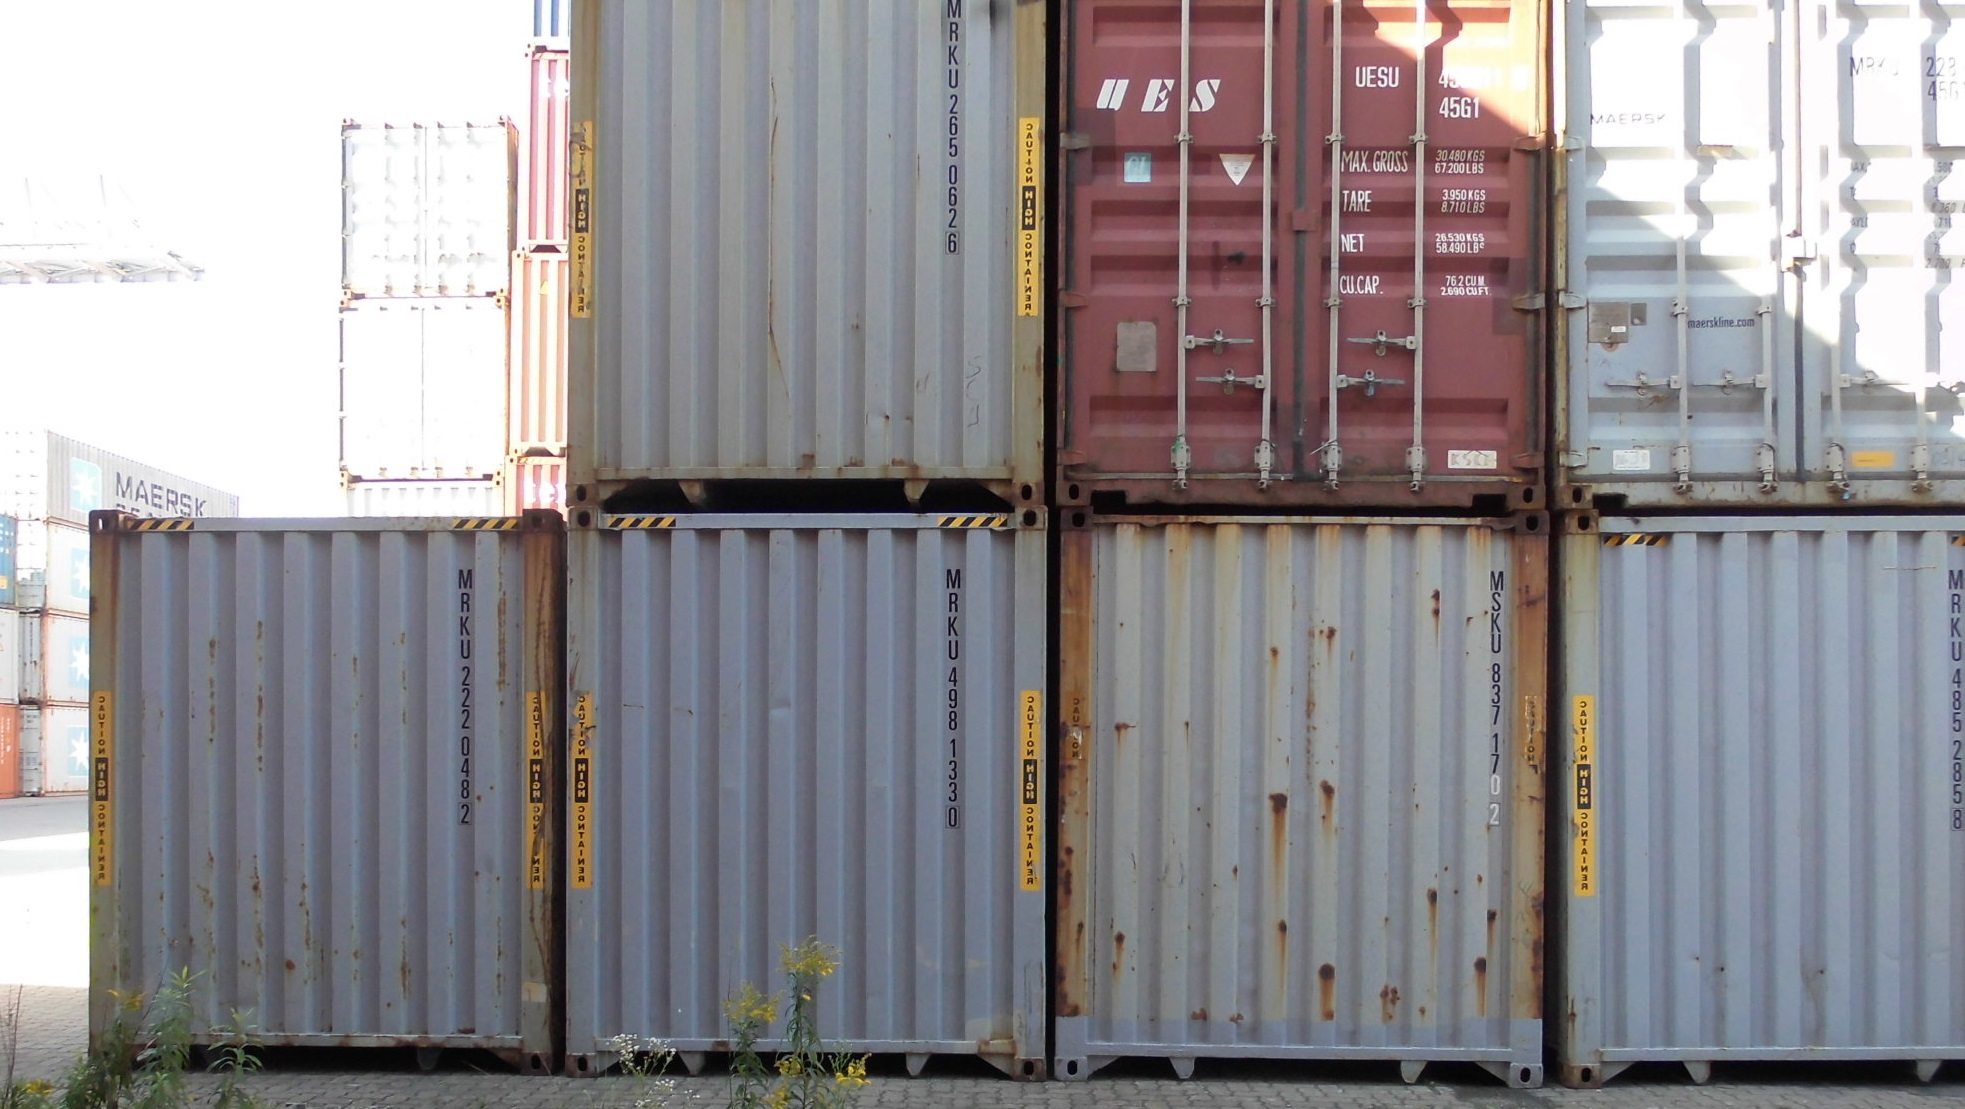container_door: (1051, 1, 1545, 511), (1545, 1, 1965, 511)
container_no_door: (563, 506, 1045, 1083), (1049, 507, 1530, 1083), (88, 509, 556, 1051), (571, 1, 1045, 503), (1556, 514, 1964, 1085)
